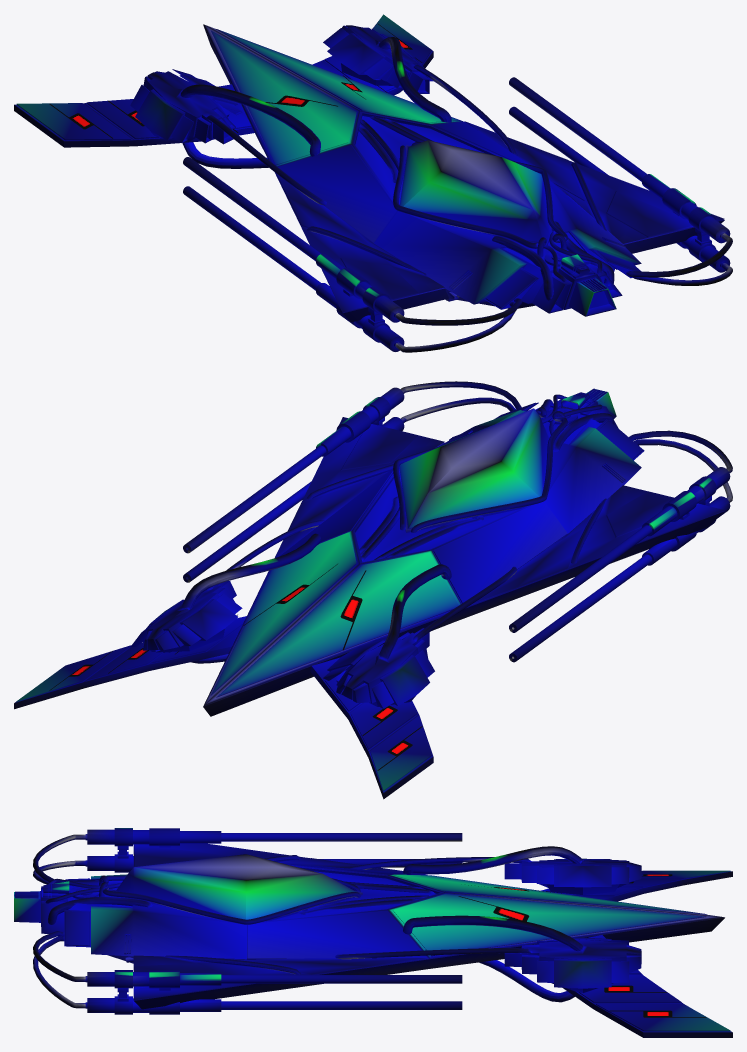
The model's file is ad_bossTele.fbx.
The picture shows the model from 3 angles, top to bottom: view 1: azimuth 30°, elevation 25°; view 2: azimuth 150°, elevation 25°; view 3: azimuth 270°, elevation 25°; orthographic projection. The views are drawn at different scales.
Visible parts, largest first — view 1: ad_bossTele; view 2: ad_bossTele; view 3: ad_bossTele.
Part boxes in pixels (x1,y1,x2,y2): ad_bossTele: (14, 14, 732, 352); ad_bossTele: (14, 381, 732, 799); ad_bossTele: (14, 828, 732, 1037).
Bounding box in the file's own units: 600 × 158 × 1094.
